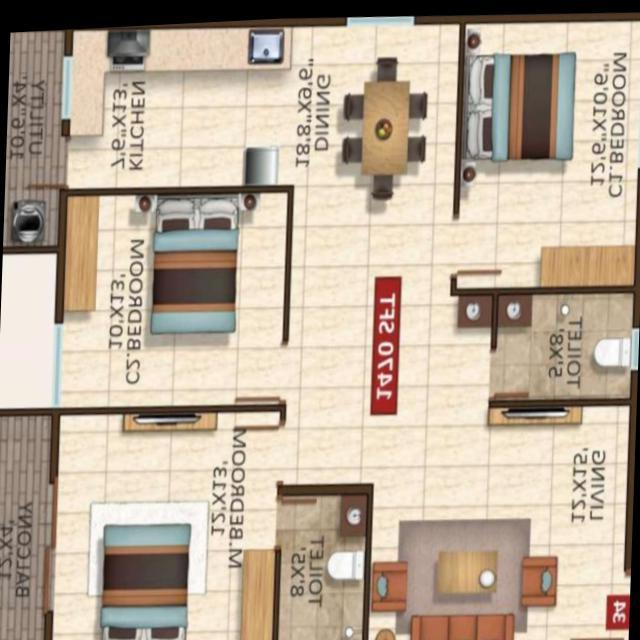Balcony-Sitout: (0, 404, 57, 640)
Bedroom: (53, 178, 293, 397), (453, 12, 640, 290)
Bedroom with Toilet: (44, 398, 375, 640)
Dining: (336, 49, 435, 200)
Enterance-Foyer: (564, 555, 632, 640)
Kitchen: (66, 16, 298, 191)
Living: (365, 404, 637, 640)
Toilet: (493, 291, 639, 399), (274, 482, 372, 640)
Utility: (3, 23, 69, 242)
